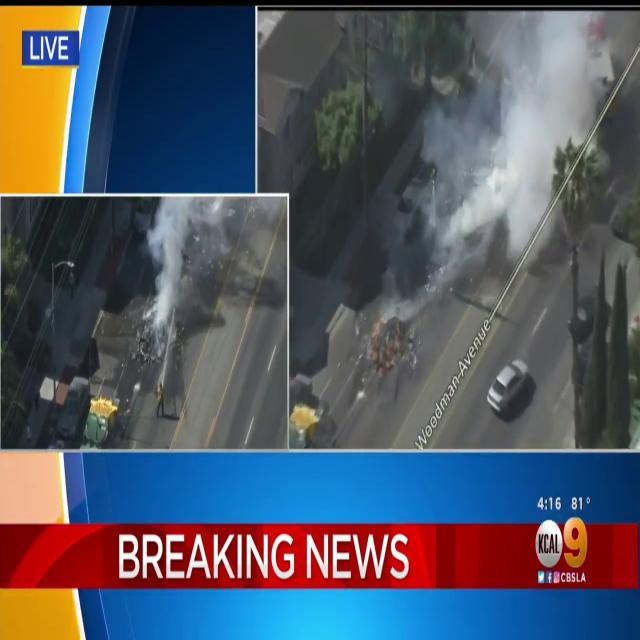Smoke: (430, 7, 604, 268), (142, 196, 235, 382)
